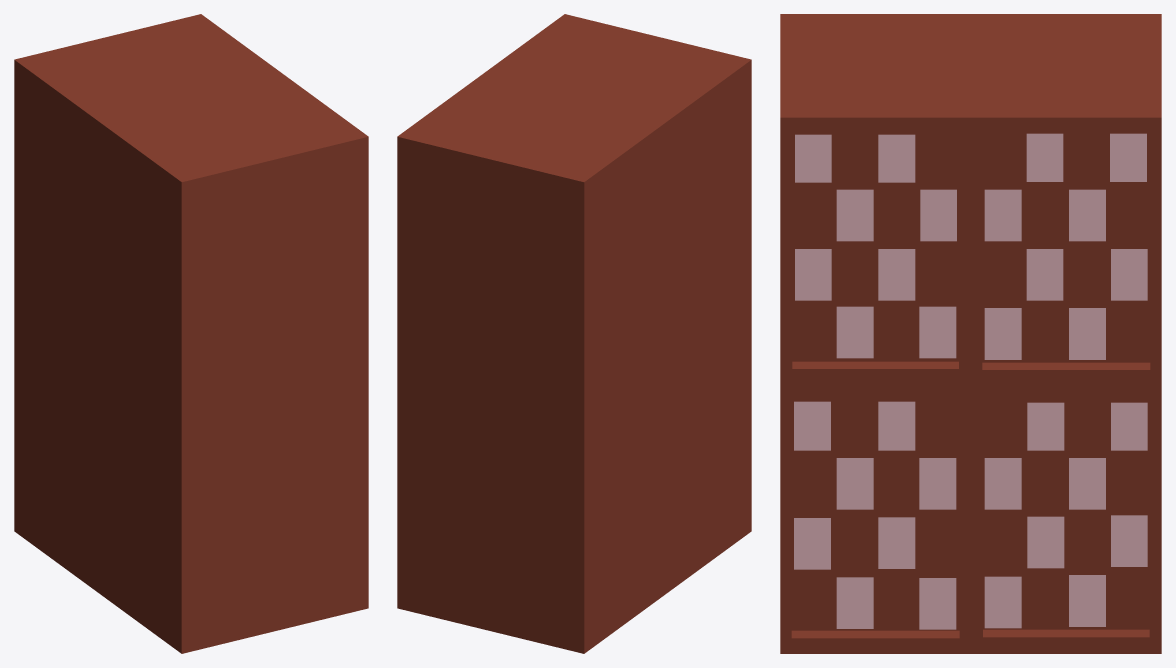
File: Red Building.glb
3 views of the same model, side by side, from view 1: azimuth 30°, elevation 25°; view 2: azimuth 150°, elevation 25°; view 3: azimuth 270°, elevation 25° (orthographic). The views are drawn at different scales.
Visible parts, largest first — view 1: Cube.001; view 2: Cube.001; view 3: Cube.001.
Boxes of the visible parts, x1,y1,x2,y2 form: Cube.001: (14,14,368,653); Cube.001: (397,14,751,653); Cube.001: (780,14,1161,653).
Bounding box in the file's own units: 3.12 × 7.51 × 4.84.
